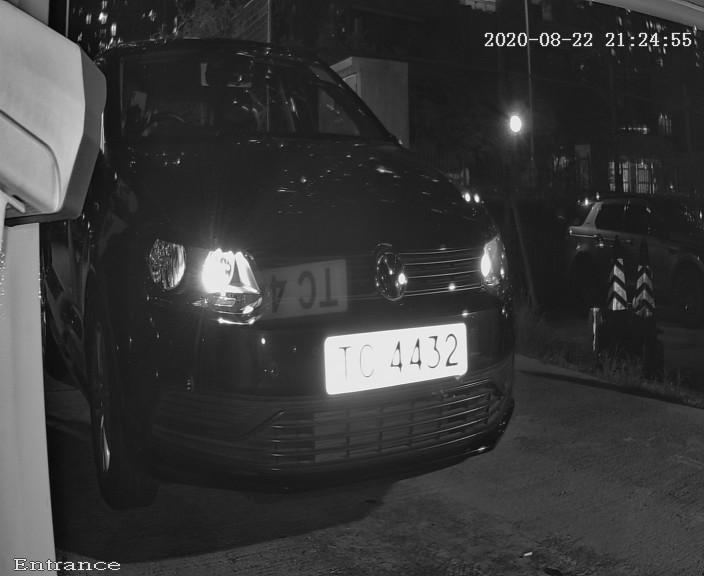Car: (32, 29, 585, 507)
License Plate: (296, 303, 487, 419)
